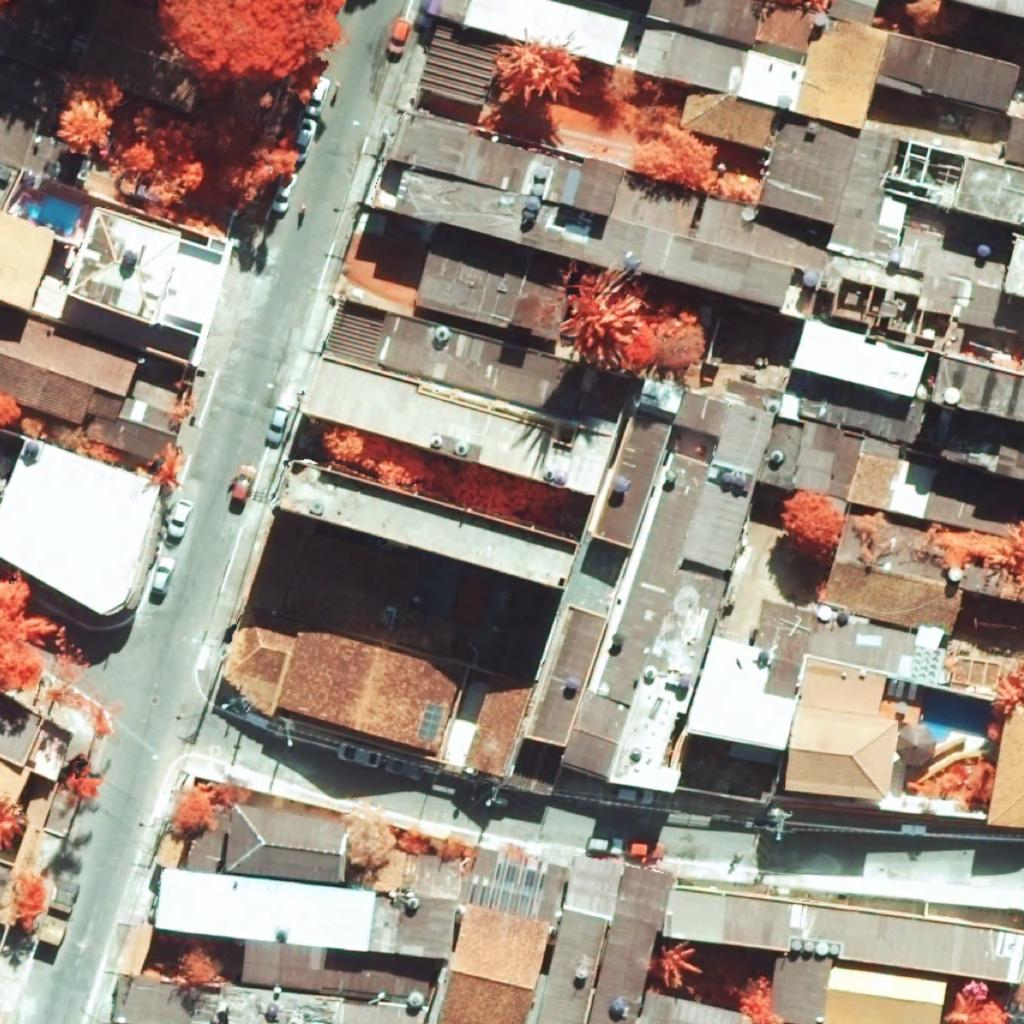pool: (921, 689, 991, 744), (27, 196, 80, 235)
